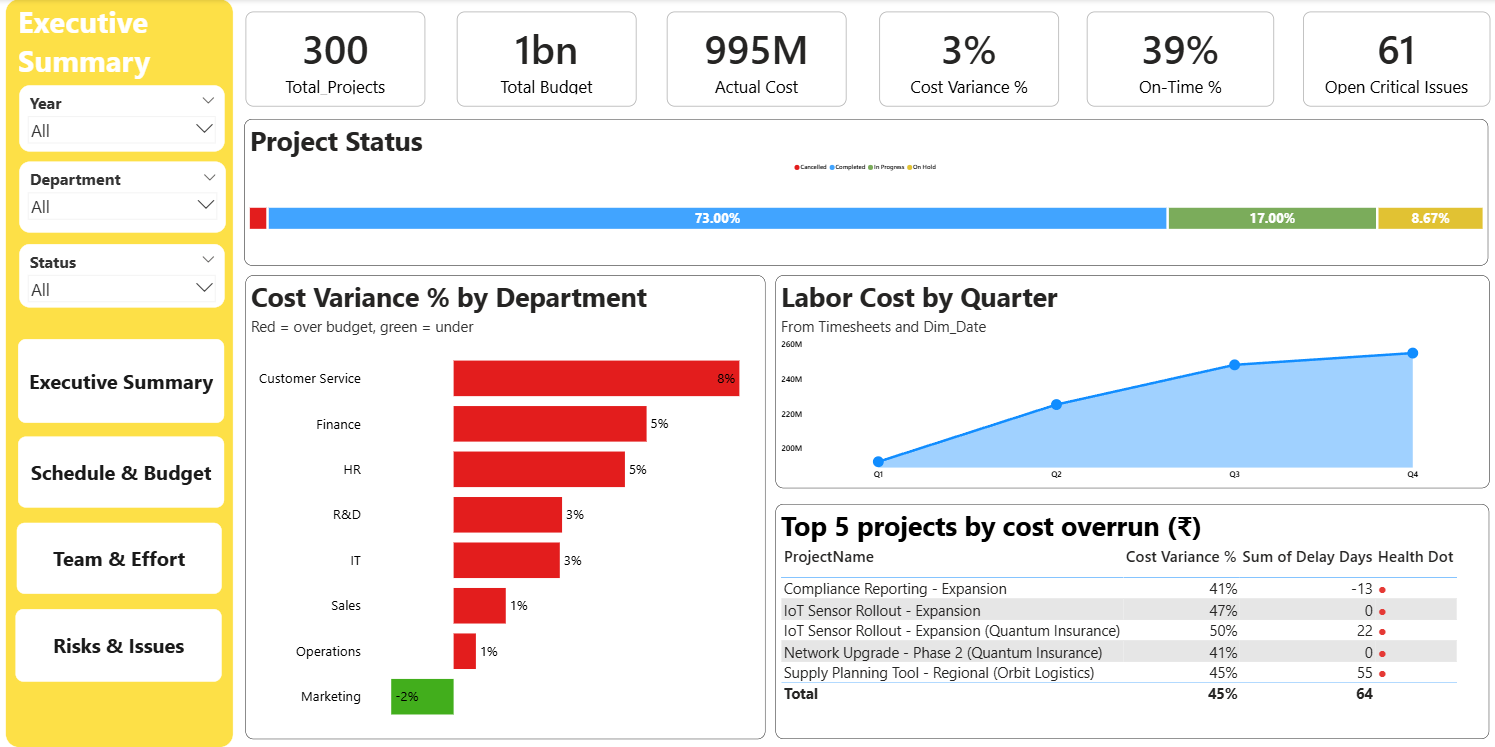

The dashboard page shown, as its layout file describes it:
{"tool":"powerbi","page":{"name":"Page 1","canvas":[3000,1500],"ordinal":0},"visuals":[{"type":"textbox","box":[15.1,0,456.3,1498.8],"z":0},{"type":"cardVisual","fields":{"Data":["Projects.Total_Projects"]},"box":[495.5,25,360.4,190.2],"z":1000},{"type":"cardVisual","fields":{"Data":["Timesheets.Actual Cost"]},"box":[1338.8,25,360.4,190.2],"z":2000},{"type":"cardVisual","fields":{"Data":["Projects.Total Budget"]},"box":[918.4,25,360.4,190.2],"z":3000},{"type":"cardVisual","fields":{"Data":["Projects.Cost Variance %"]},"box":[1764.3,25,360.4,190.2],"z":4000},{"type":"cardVisual","fields":{"Data":["Projects.On-Time %"]},"box":[2179.7,25,375.4,190.2],"z":5000},{"type":"cardVisual","fields":{"Data":["Issues.Open Critical Issues"]},"box":[2612.6,25,375.4,190.2],"z":6000},{"type":"hundredPercentStackedBarChart","title":"Project Status","fields":{"Y":["Count(Projects.ProjectID)"],"Series":["Projects.Status"]},"box":[493,239.4,2490.5,293.5],"z":7000},{"type":"clusteredBarChart","fields":{"Category":["Projects.Department"],"Y":["Projects.Cost Variance %"]},"box":[495.5,553.1,1041,928.4],"z":8000},{"type":"lineChart","fields":{"Y":["Timesheets.Labor Cost"],"Category":["Dim_Date.Quarter"]},"box":[1556.2,553,1429.3,426.1],"z":9000},{"type":"tableEx","title":"Top 5 projects by cost overrun (₹)","fields":{"Values":["Projects.ProjectName","Projects.Cost Variance %","Sum(Projects.Delay Days)","Projects.Health Dot"]},"box":[1556.6,1011,1428.9,470.5],"z":10000},{"type":"slicer","fields":{"Values":["Dim_Date.Year"]},"box":[42.3,172.2,411,133],"z":11000},{"type":"slicer","fields":{"Values":["Projects.Department"]},"box":[42.3,326.4,414,142],"z":12000},{"type":"slicer","fields":{"Values":["Projects.Status"]},"box":[42.3,489.5,411,126.9],"z":13000},{"type":"actionButton","title":"Executive Summary","box":[39.9,681,413.2,168.1],"z":14000},{"type":"actionButton","title":"Executive Summary","box":[39.9,874.8,413.2,142.5],"z":15000},{"type":"actionButton","title":"Executive Summary","box":[37,1048.6,410.3,142.5],"z":16000},{"type":"actionButton","title":"Executive Summary","box":[34.2,1222.5,413.2,145.3],"z":17000},{"type":"textbox","box":[36.3,0,435.1,172.2],"z":18000}]}

Visuals, with their boxes in screenshot pixels (x1, y1, x2, y2), scaled from the page's 3000x1500 canvas onto the 1495x747 screenshot:
textbox: region(8, 0, 235, 746)
cardVisual - Projects.Total_Projects: region(247, 12, 427, 107)
cardVisual - Timesheets.Actual Cost: region(667, 12, 847, 107)
cardVisual - Projects.Total Budget: region(458, 12, 637, 107)
cardVisual - Projects.Cost Variance %: region(879, 12, 1059, 107)
cardVisual - Projects.On-Time %: region(1086, 12, 1273, 107)
cardVisual - Issues.Open Critical Issues: region(1302, 12, 1489, 107)
"Project Status" hundredPercentStackedBarChart: region(246, 119, 1487, 265)
clusteredBarChart - Projects.Department x Projects.Cost Variance %: region(247, 275, 766, 738)
lineChart - Timesheets.Labor Cost x Dim_Date.Quarter: region(776, 275, 1488, 488)
"Top 5 projects by cost overrun (₹)" tableEx: region(776, 503, 1488, 738)
slicer - Dim_Date.Year: region(21, 86, 226, 152)
slicer - Projects.Department: region(21, 163, 227, 233)
slicer - Projects.Status: region(21, 244, 226, 307)
"Executive Summary" actionButton: region(20, 339, 226, 423)
"Executive Summary" actionButton: region(20, 436, 226, 507)
"Executive Summary" actionButton: region(18, 522, 223, 593)
"Executive Summary" actionButton: region(17, 609, 223, 681)
textbox: region(18, 0, 235, 86)
